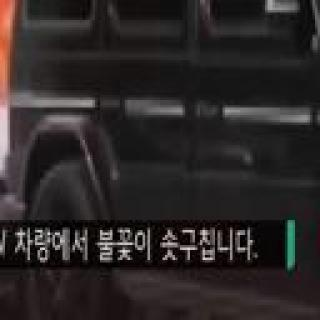fire: (0, 0, 82, 88)
